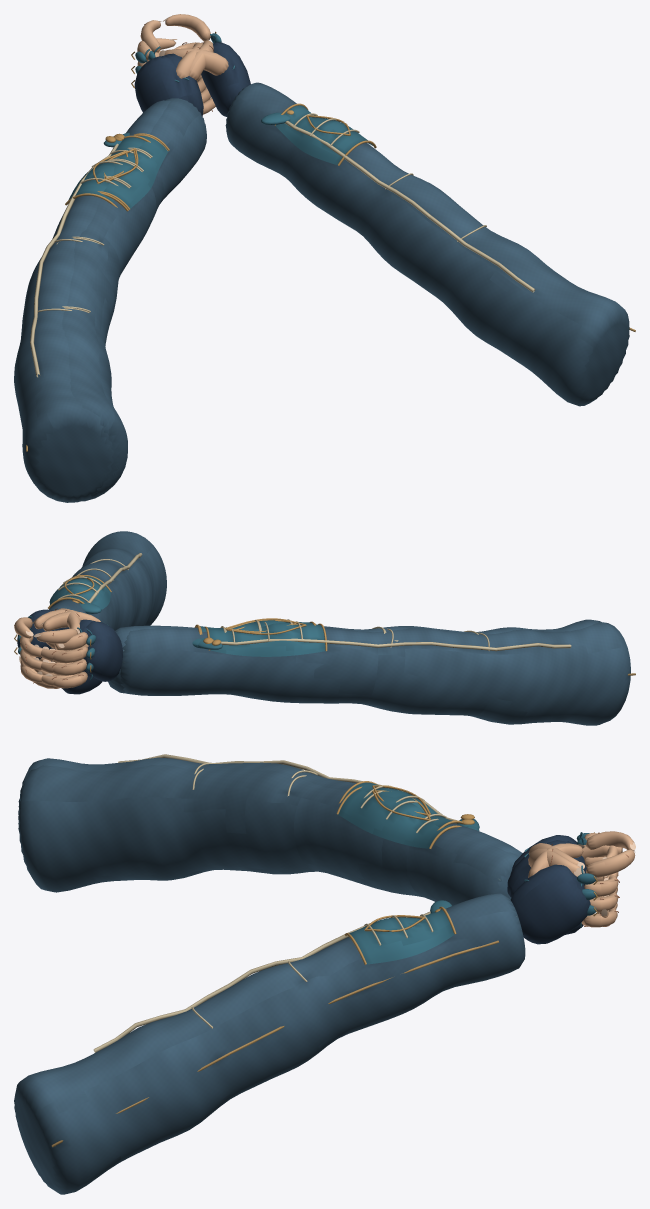
Rendered from anime-hands.glb.
3 renders of one model, top to bottom at view 1: azimuth 30°, elevation 25°; view 2: azimuth 150°, elevation 25°; view 3: azimuth 270°, elevation 25°, orthographic. The views are drawn at different scales.
Visible parts, largest first — view 1: rightHand_Stone grey field ripstop, leftCup_Stone grey field ripstop, leftVertical_Stone grey field ripstop, rightHand_Wrist teal binding, leftVertical_Wrist teal binding, leftCup_Worn charcoal leather, rightHand_Worn charcoal leather, rightHand_Tailored sleeve inlay, rightHand_Painted exposed fingers, leftCup_Wrist teal binding, leftCup_Tailored sleeve inlay, leftVertical_Painted exposed fingers (+1 smaller); view 2: leftCup_Stone grey field ripstop, rightHand_Stone grey field ripstop, leftCup_Wrist teal binding, leftCup_Painted exposed fingers, leftCup_Worn charcoal leather, leftCup_Tailored sleeve inlay, leftVertical_Stone grey field ripstop, rightHand_Painted exposed fingers, leftVertical_Painted exposed fingers, rightHand_Wrist teal binding, rightHand_Tailored sleeve inlay, leftCup_Cuff fastener (+5 smaller); view 3: rightHand_Stone grey field ripstop, leftVertical_Stone grey field ripstop, rightHand_Worn charcoal leather, rightHand_Wrist teal binding, leftVertical_Wrist teal binding, leftCup_Stone grey field ripstop, rightHand_Painted exposed fingers, rightHand_Tailored sleeve inlay, leftVertical_Painted exposed fingers, leftCup_Tailored sleeve inlay, rightHand_Waxed seam, leftCup_Wrist teal binding (+2 smaller).
Part boxes in pixels (x1,y1,x2,y2): rightHand_Stone grey field ripstop: (225, 82, 629, 406); leftCup_Stone grey field ripstop: (14, 100, 170, 502); leftVertical_Stone grey field ripstop: (62, 98, 206, 489); rightHand_Wrist teal binding: (210, 33, 372, 165); leftVertical_Wrist teal binding: (103, 46, 189, 208); leftCup_Worn charcoal leather: (134, 56, 188, 112); rightHand_Worn charcoal leather: (201, 42, 250, 116); rightHand_Tailored sleeve inlay: (285, 113, 535, 292); rightHand_Painted exposed fingers: (164, 14, 228, 81); leftCup_Wrist teal binding: (68, 49, 179, 202); leftCup_Tailored sleeve inlay: (30, 143, 133, 377); leftVertical_Painted exposed fingers: (140, 20, 213, 80); leftCup_Stone grey field ripstop: (120, 621, 630, 725); rightHand_Stone grey field ripstop: (49, 531, 166, 630); leftCup_Wrist teal binding: (86, 622, 325, 679); leftCup_Painted exposed fingers: (42, 611, 100, 688); leftCup_Worn charcoal leather: (83, 621, 122, 681); leftCup_Tailored sleeve inlay: (221, 621, 571, 651); leftVertical_Stone grey field ripstop: (108, 619, 600, 687); rightHand_Painted exposed fingers: (14, 608, 80, 682); leftVertical_Painted exposed fingers: (34, 609, 78, 685); rightHand_Wrist teal binding: (18, 576, 110, 654); rightHand_Tailored sleeve inlay: (58, 553, 142, 603); leftCup_Cuff fastener: (90, 620, 327, 672); rightHand_Stone grey field ripstop: (14, 893, 525, 1194); leftVertical_Stone grey field ripstop: (18, 765, 519, 905); rightHand_Worn charcoal leather: (510, 864, 590, 944); rightHand_Wrist teal binding: (349, 865, 596, 964); leftVertical_Wrist teal binding: (338, 789, 586, 857); leftCup_Stone grey field ripstop: (18, 757, 522, 856); rightHand_Painted exposed fingers: (528, 843, 635, 927); rightHand_Tailored sleeve inlay: (93, 911, 433, 1052); leftVertical_Painted exposed fingers: (528, 831, 634, 909); leftCup_Tailored sleeve inlay: (118, 754, 457, 823); rightHand_Waxed seam: (51, 940, 499, 1147); leftCup_Wrist teal binding: (344, 782, 589, 851).
Bounding box in the file's own units: 0.851 × 0.3147 × 0.6837.
Materials: 11 (11 with a texture image).
